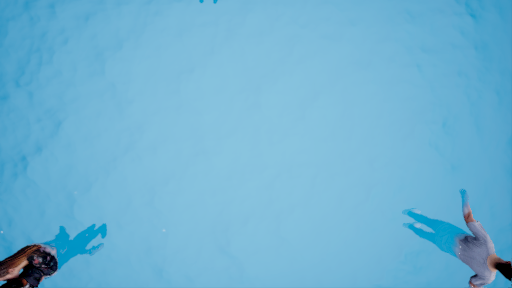person: (396, 193, 504, 288), (5, 217, 104, 285)
